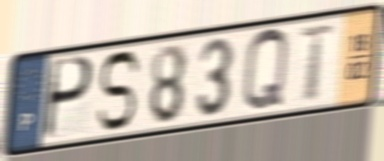3: (195, 34, 238, 121)
8: (148, 41, 189, 126)
P: (40, 54, 96, 143)
Q: (240, 25, 291, 116)
S: (94, 49, 143, 135)
T: (297, 21, 338, 104)
